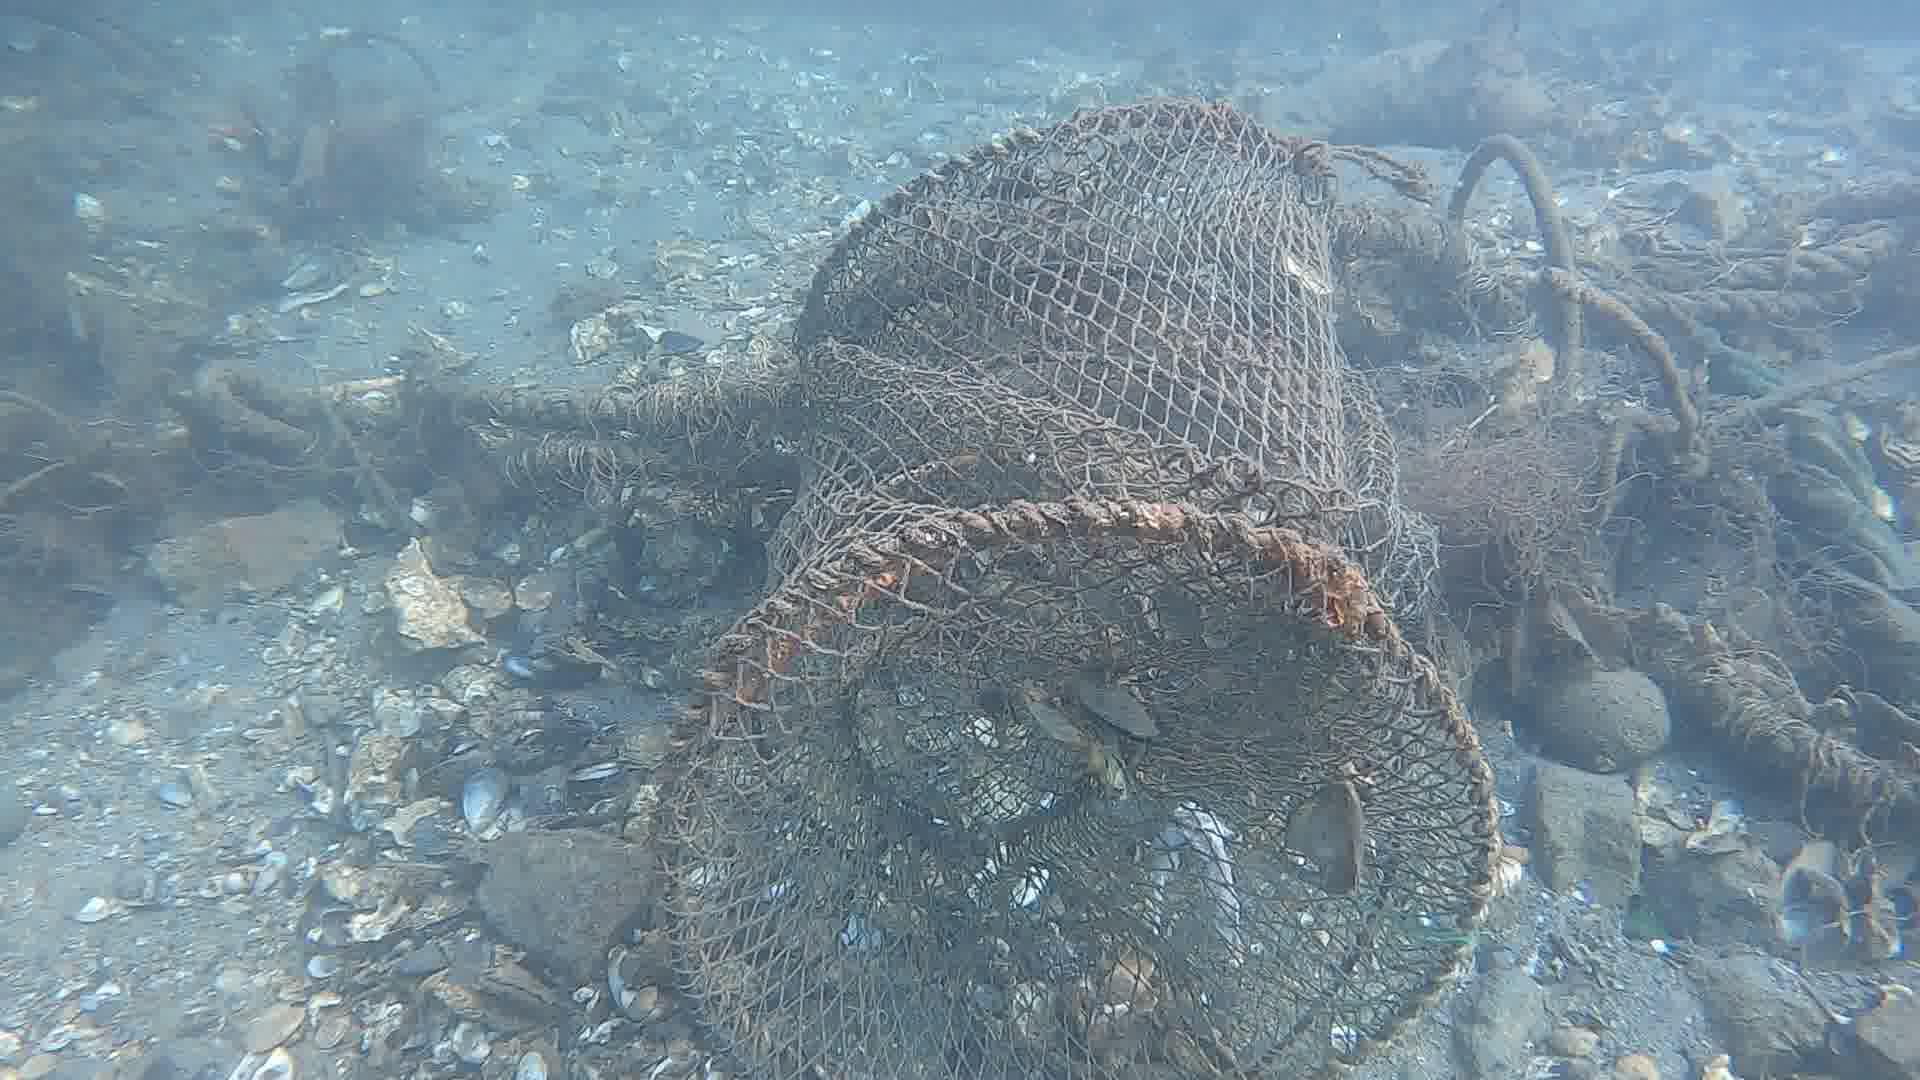bundle of ropes: (1654, 224, 1894, 320)
rope: (472, 385, 628, 430)
spring fish trap: (653, 96, 1503, 1076)
